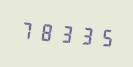eight: (37, 17, 55, 45)
five: (94, 22, 112, 50)
seven: (18, 15, 36, 44)
three: (75, 20, 93, 49), (56, 19, 74, 47)
